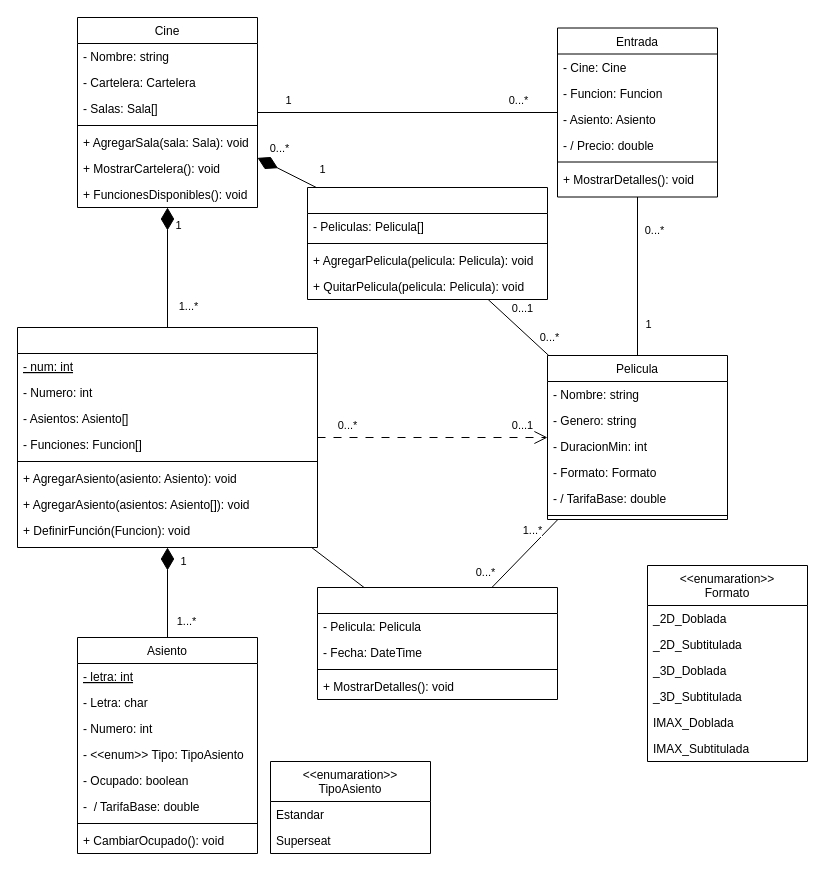
Some shapes in this 825 by 874 pixel diagram are drawn without their labels. The shapes that lost their labels are listed below. From the top down, each one's box as (x1, y1, x2, y2) in pixels, then its label:
(306, 186, 548, 300): Cartelera
(16, 326, 318, 548): Sala
(316, 586, 558, 700): Funcion
